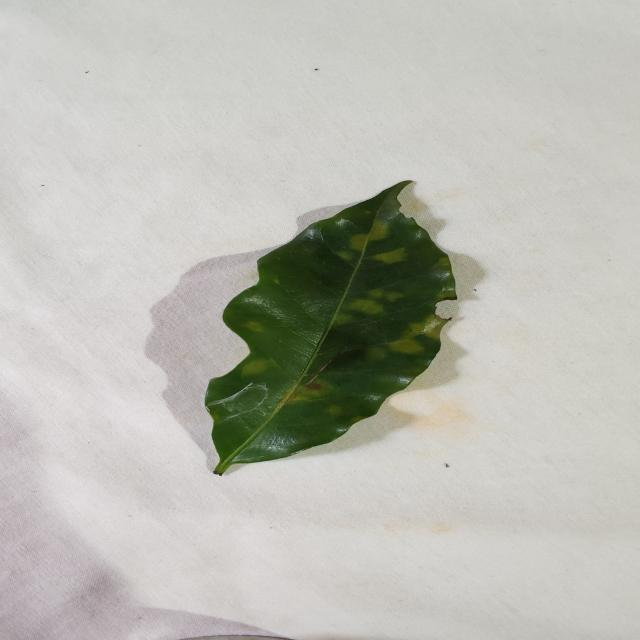Enfermedad-Roya: (202, 181, 459, 476)
